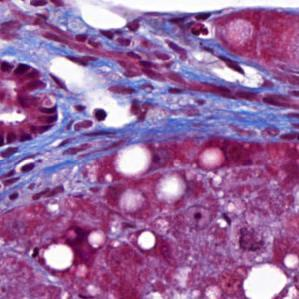inflammation: (66, 101, 111, 136), (209, 49, 248, 79)
